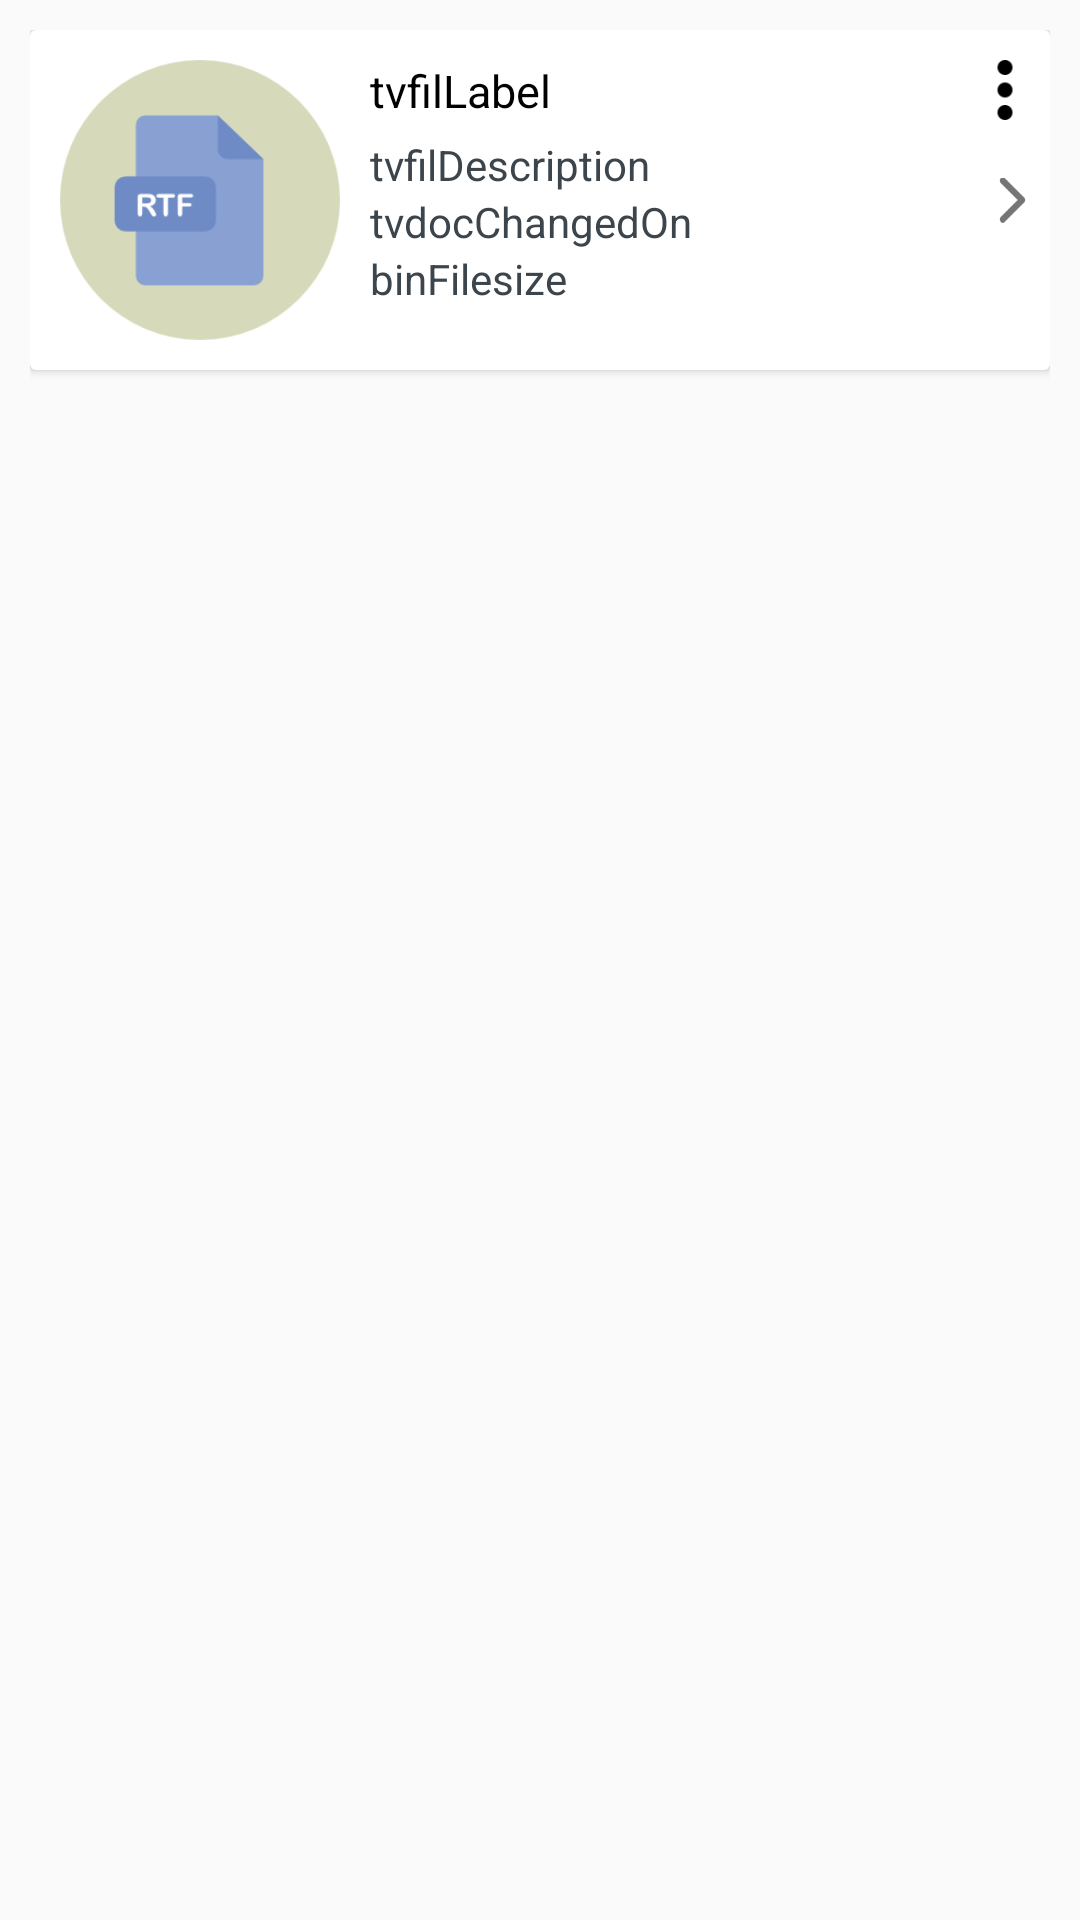

Screen size 1080px x 1920px. Icon name, then its box in pixels as (x1, y1, x2, y2):
arrow right: (1000, 178, 1025, 223)
documents rtf: (60, 60, 340, 340)
